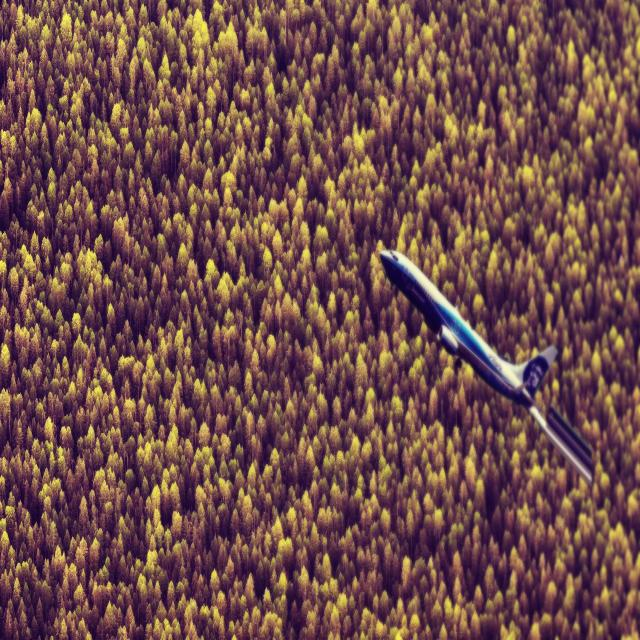airplane: (378, 247, 594, 487)
